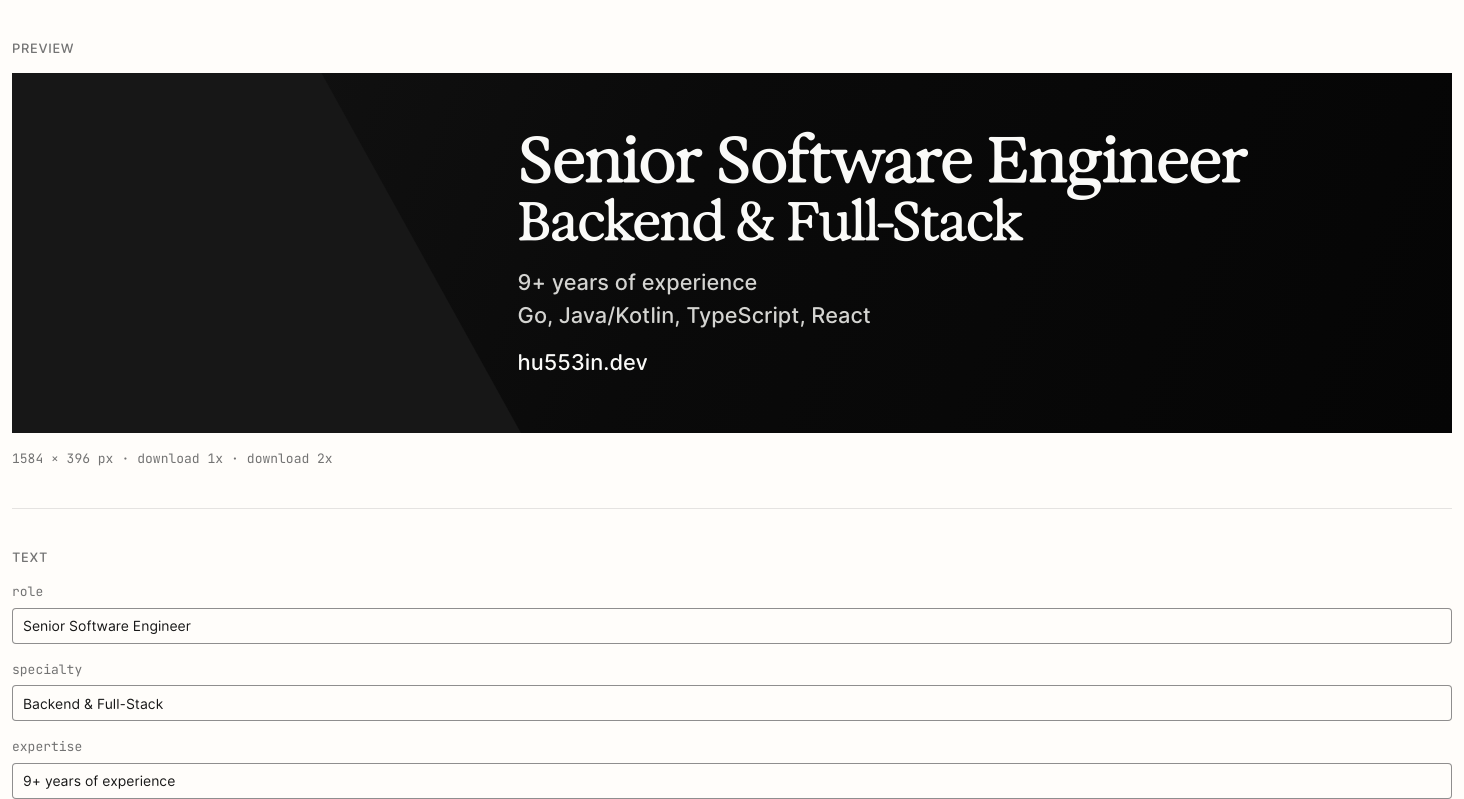
Test: LinkedIn cover image editor › downloads the 1× PNG
Click the button "download 1x": (180, 459) [137,449,223,468]
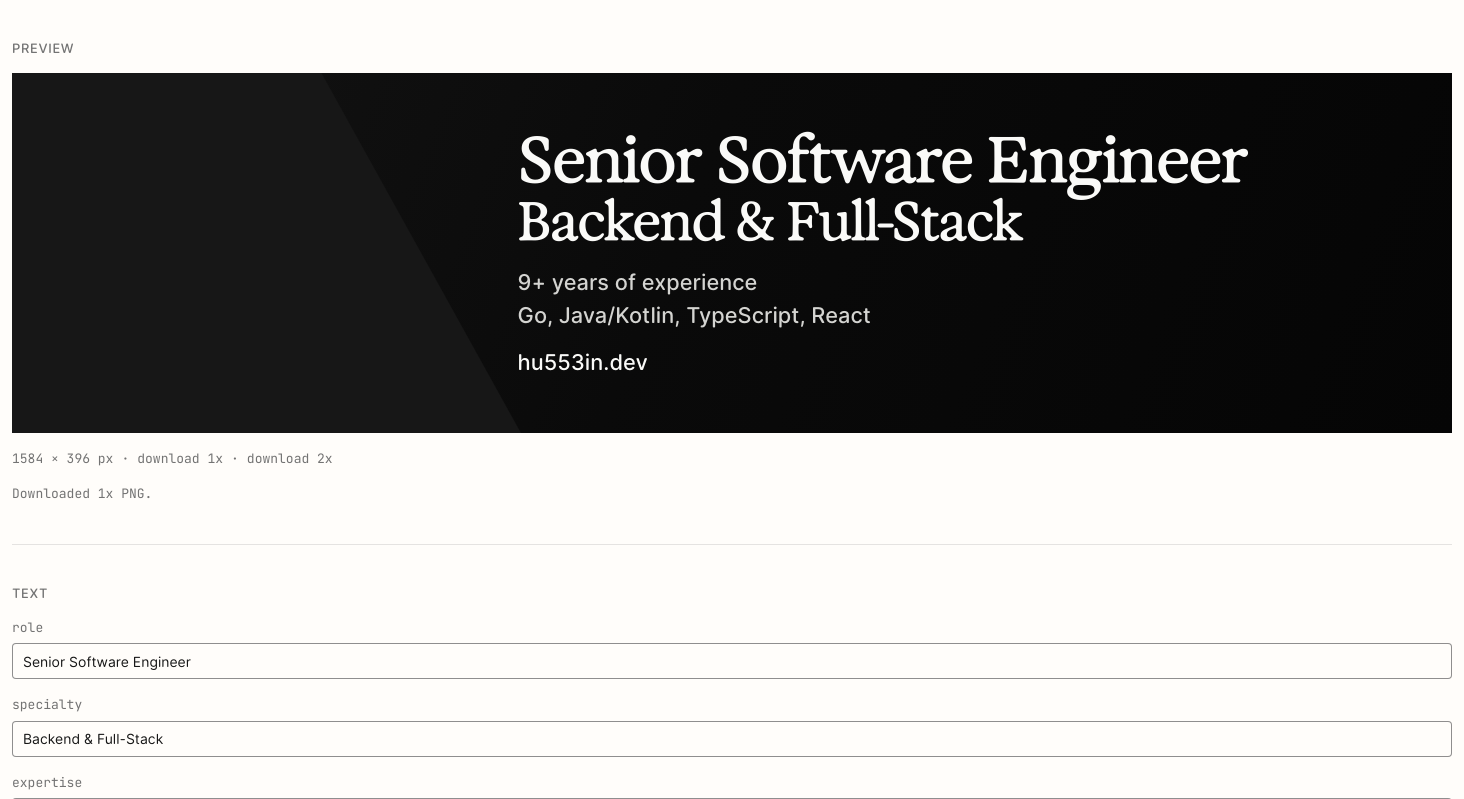
Check: the text "Downloaded 1x PNG." is shown, box [12,485,152,502]
